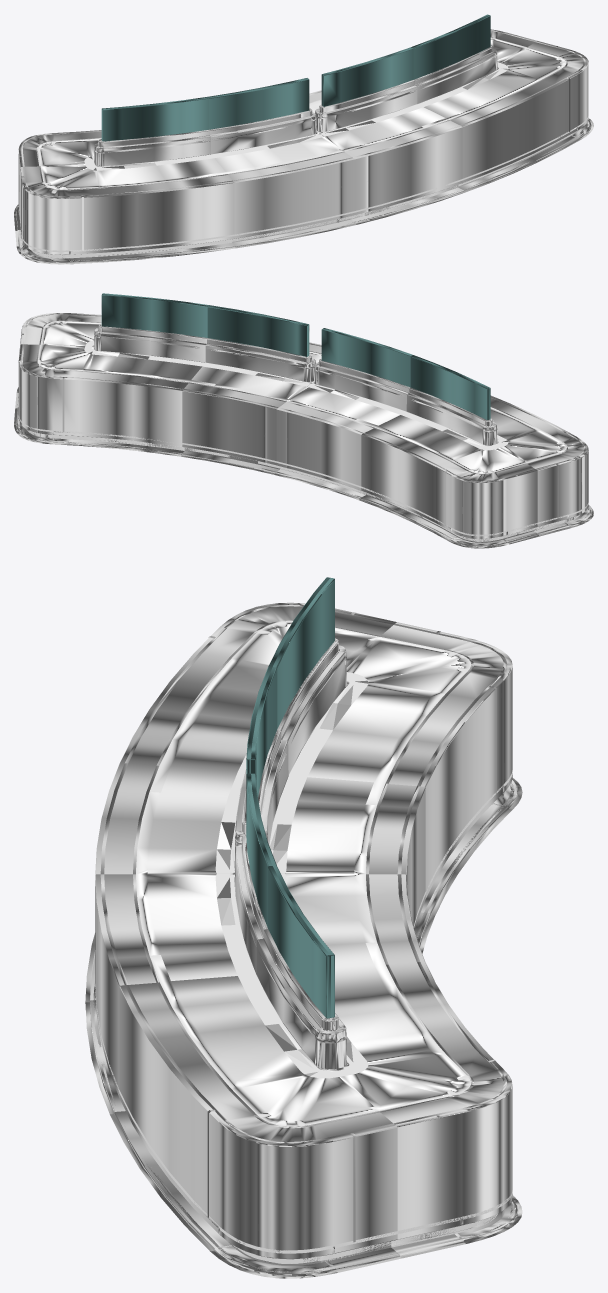
File: fl_display_stand_ring_inner_c.glb
The picture shows the model from 3 angles, top to bottom: view 1: azimuth 30°, elevation 25°; view 2: azimuth 150°, elevation 25°; view 3: azimuth 270°, elevation 25°; orthographic projection. The views are drawn at different scales.
Bounding box in the file's own units: 7.32 × 1.46 × 2.44.
